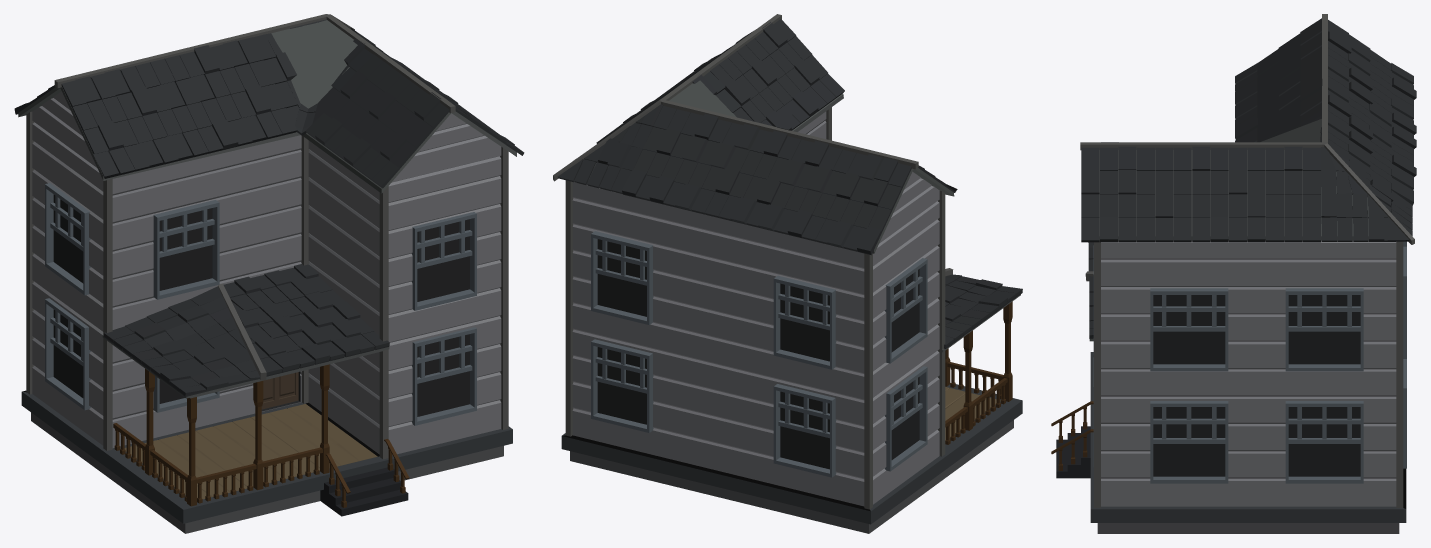
File: FarmHouse_01_A.gltf
The picture shows the model from 3 angles, left to right: view 1: azimuth 30°, elevation 25°; view 2: azimuth 150°, elevation 25°; view 3: azimuth 270°, elevation 25°; orthographic projection. The views are drawn at different scales.
Visible parts, largest first — view 1: FarmHouse_01_A, FarmHouse_01_A_Door; view 2: FarmHouse_01_A; view 3: FarmHouse_01_A.
Boxes of the visible parts, left/top/right/bottom form: FarmHouse_01_A: left=14, top=14, right=524, bottom=533; FarmHouse_01_A_Door: left=261, top=372, right=298, bottom=409; FarmHouse_01_A: left=553, top=14, right=1022, bottom=533; FarmHouse_01_A: left=1051, top=14, right=1416, bottom=533.
Bounding box in the file's own units: 2.57 × 2.65 × 2.42.
